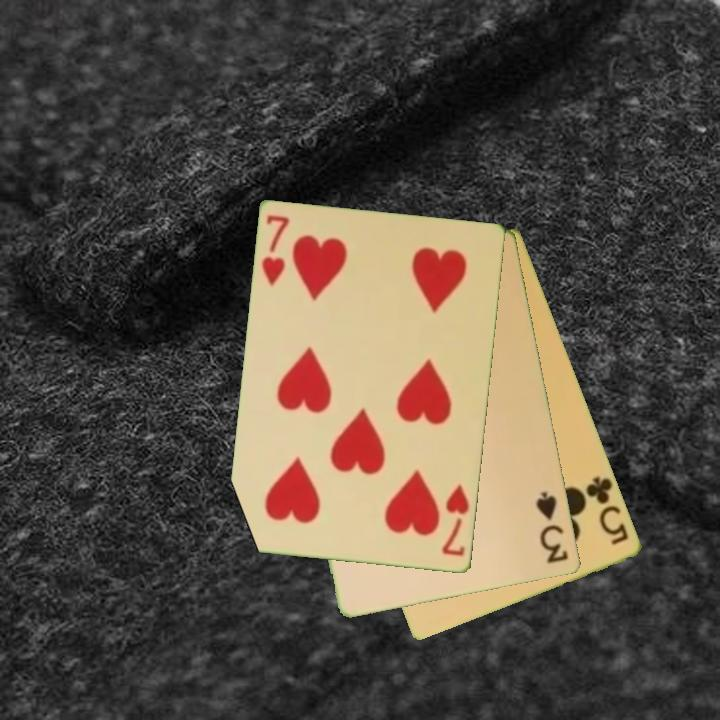3s: (533, 488, 571, 567)
5c: (582, 473, 632, 548)
7h: (258, 212, 293, 289), (438, 481, 472, 559)
